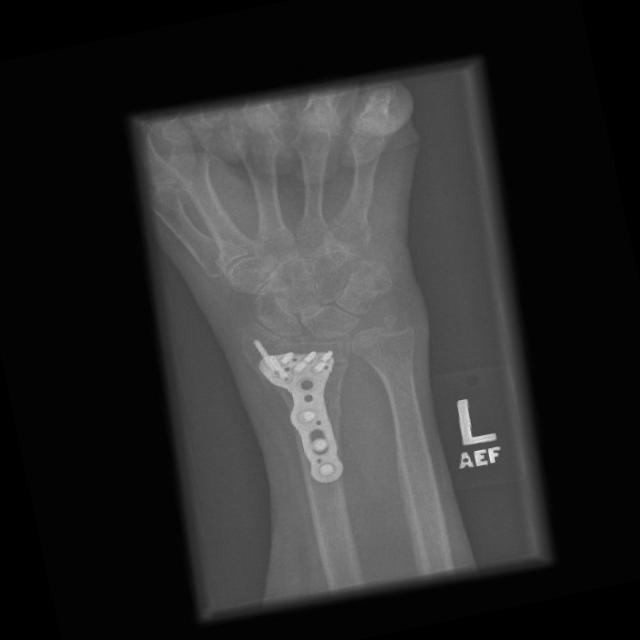wrist positive: (238, 347, 364, 416), (352, 325, 428, 385)
